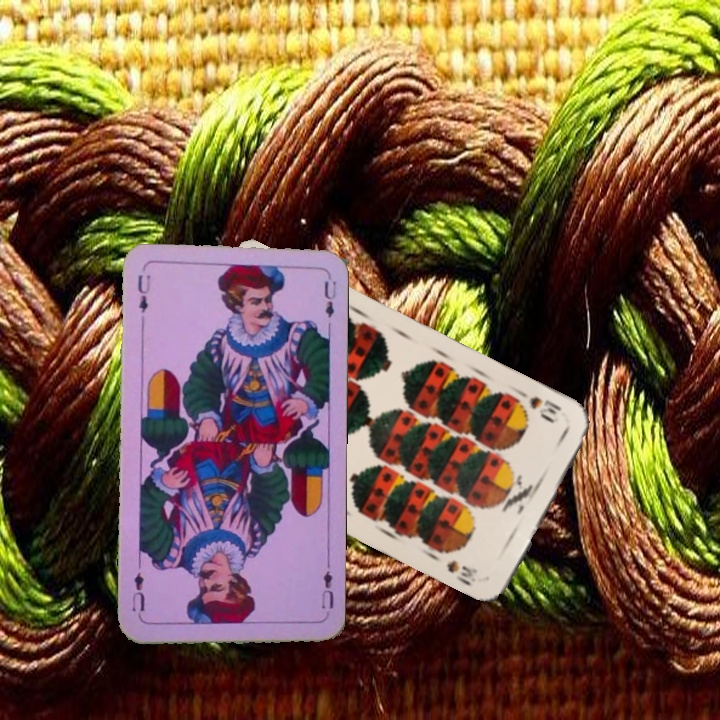EU: (317, 566, 336, 611), (134, 271, 153, 316)
S10: (514, 386, 564, 424)
